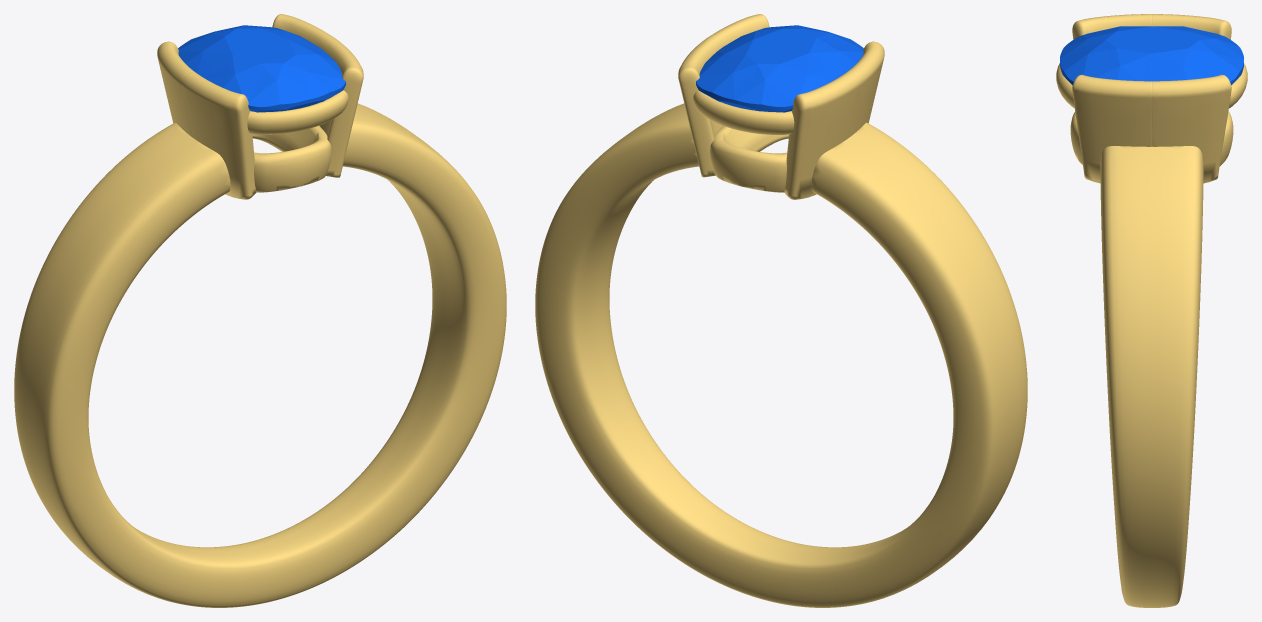
File: bluesapphire-cushion-yellowgold-halfmoonbezel-straighttaperedband-nosidestones.glb
3 views of the same model, side by side, from view 1: azimuth 30°, elevation 25°; view 2: azimuth 150°, elevation 25°; view 3: azimuth 270°, elevation 25° (orthographic).
Visible parts, largest first — view 1: metal.003, stone; view 2: metal.003, stone; view 3: metal.003, stone.
Boxes of the visible parts, bbox=[...] form: metal.003: bbox=[14, 14, 506, 607]; stone: bbox=[178, 25, 345, 112]; metal.003: bbox=[535, 14, 1027, 607]; stone: bbox=[696, 25, 863, 112]; metal.003: bbox=[1056, 14, 1247, 607]; stone: bbox=[1060, 26, 1243, 84].
Size of the model in its own units: 20.51 by 23.24 by 7.42.
